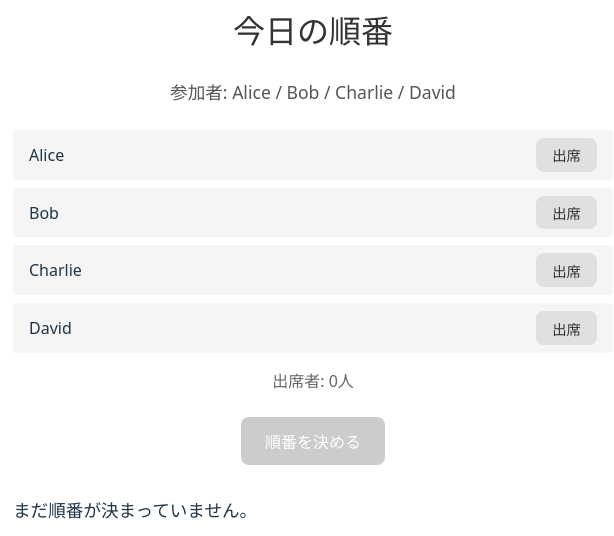
Test case: App › 出席登録機能 › 出席ボタンをクリックすると出席状態になる
Click the 1st button "出席" at (567, 155), box x1=536 y1=138 x2=597 y2=172
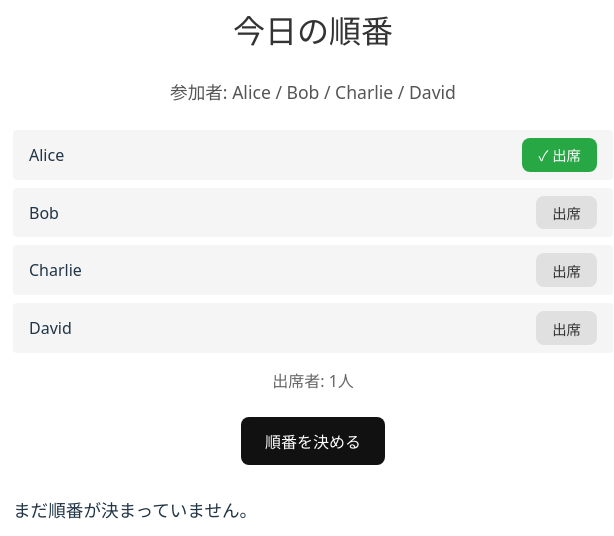
Expected: the text "出席者: 1人" is shown, x1=272 y1=370 x2=354 y2=392
Expected: the button "✓ 出席" is shown, x1=522 y1=138 x2=597 y2=172
